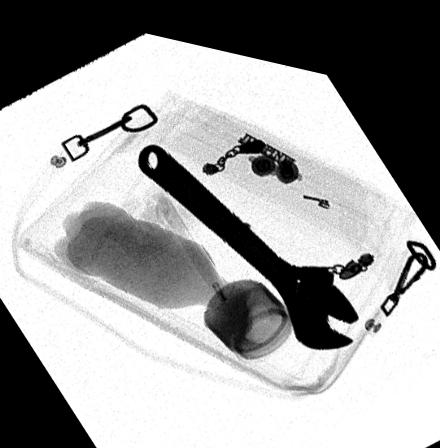Wrench: (135, 137, 359, 337)
